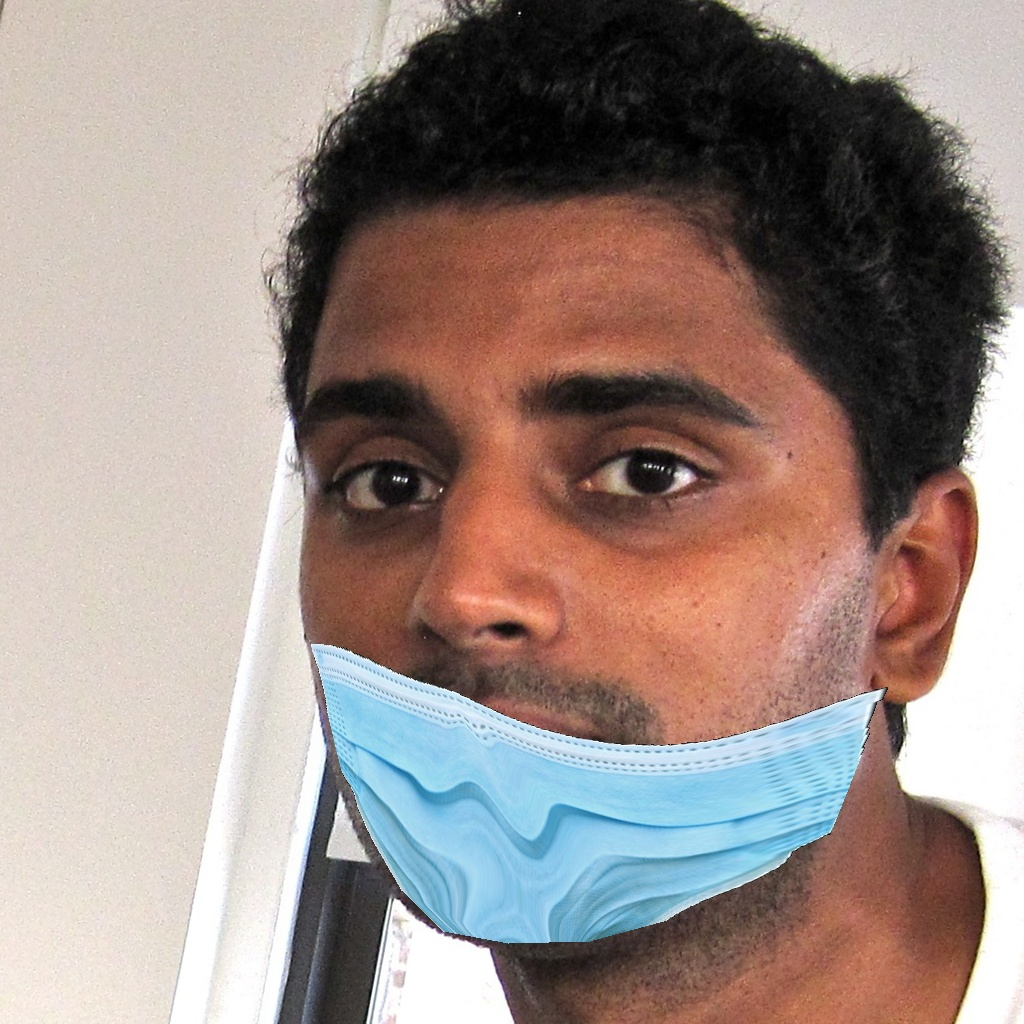mascarilla_mal_puesta: (279, 333, 902, 930)
